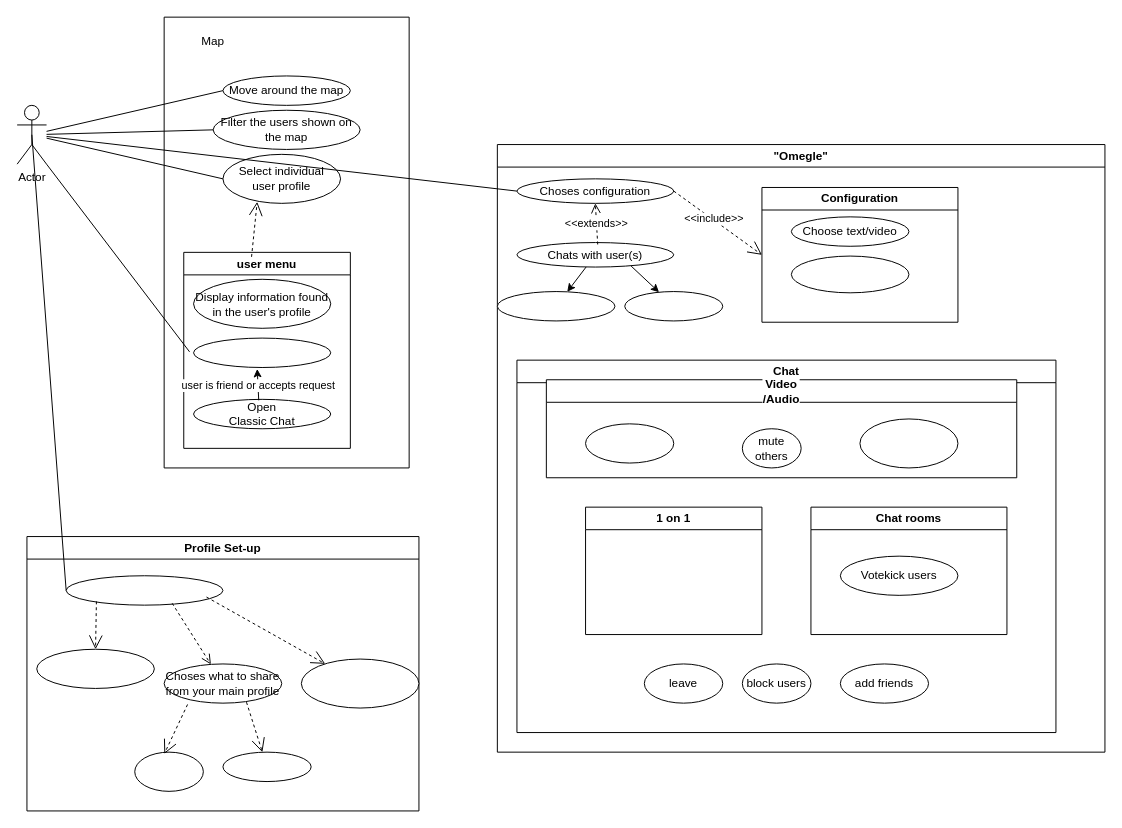
Image size: 1122x828. Some labels were removed from this diagram. The centre of each missing label's shape, as x and y in pixels:
Chat Text: pixel 673 306
Chat Video: pixel 555 306
Choose 1 on 1/group: pixel 849 274
Enter interests: pixel 95 668
Enters profile information: pixel 144 590
Hide others video/audio: pixel 908 443
Hide your video/ mute yourself: pixel 629 443
name/full name: pixel 266 766
profile picture: pixel 168 771
Request to chat: pixel 262 352
Set description: pixel 359 683
